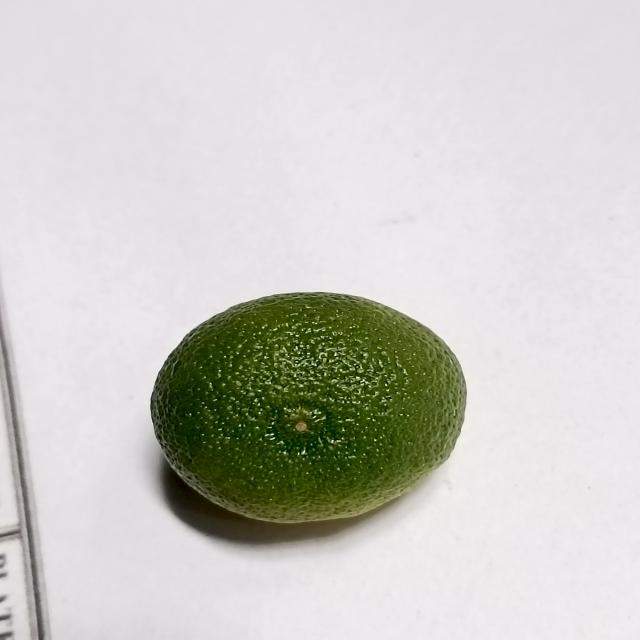heathy: (148, 289, 472, 529)
